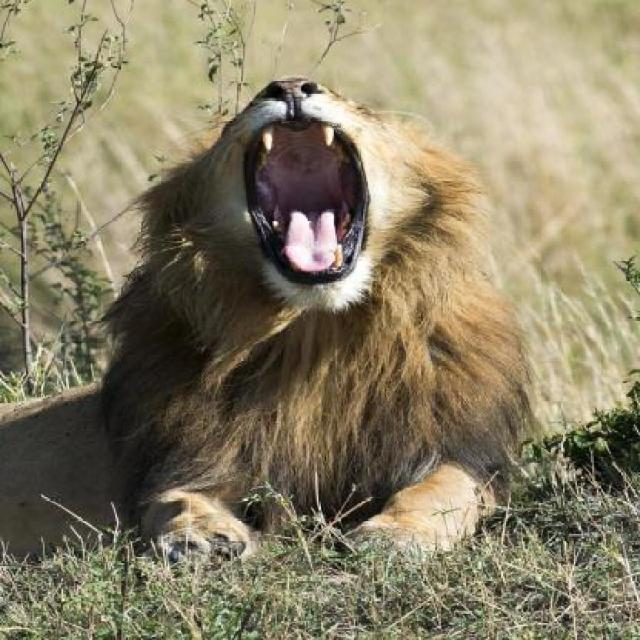Lion: (2, 60, 550, 595)
